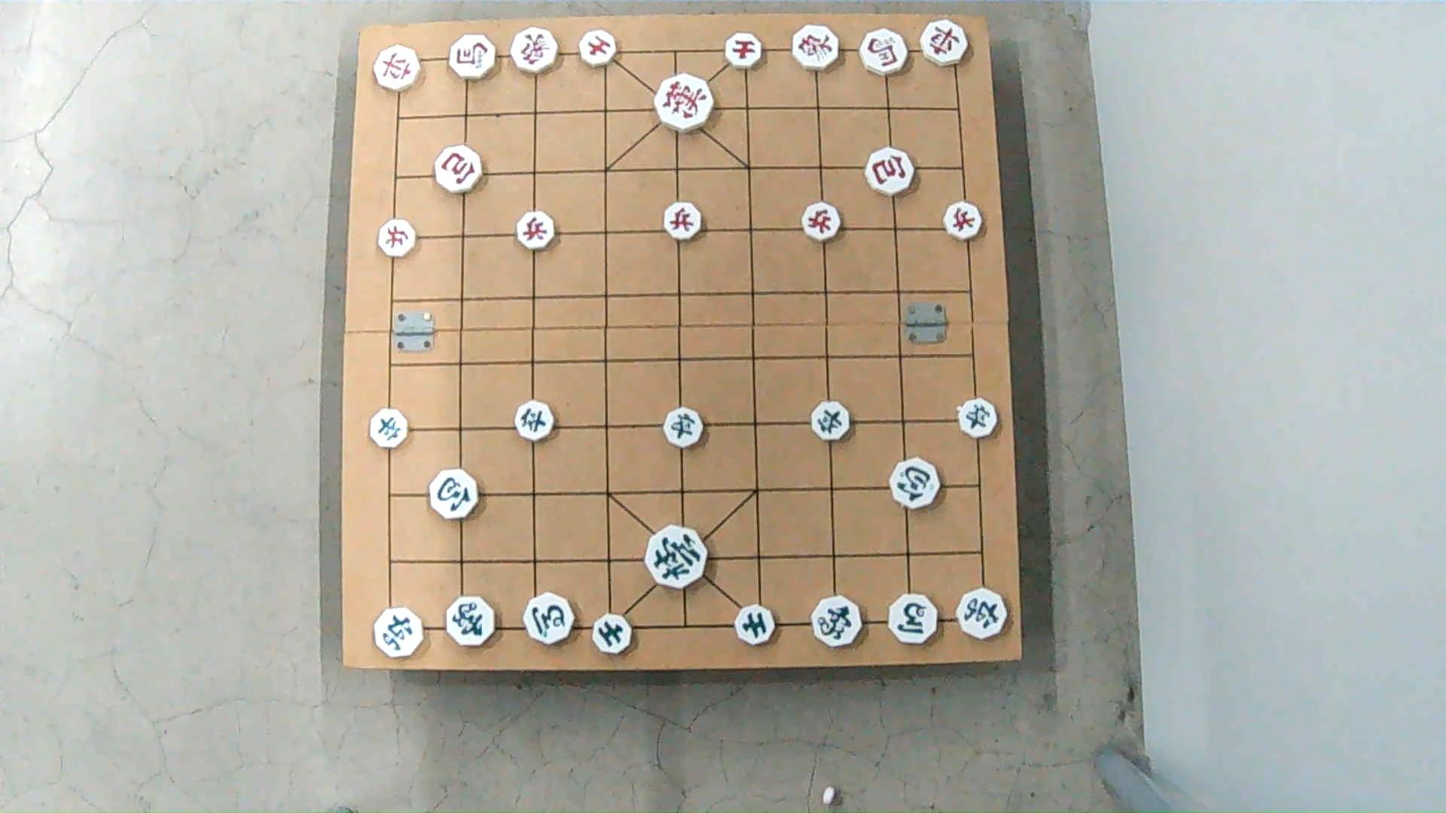cha_green: (956, 588, 1011, 641), (374, 611, 426, 659)
cha_red: (922, 23, 975, 65), (374, 47, 423, 89)
jol_green: (661, 406, 705, 449), (515, 403, 559, 440), (955, 400, 999, 437), (808, 403, 850, 440), (369, 409, 412, 444)
jol_red: (801, 202, 844, 241), (517, 215, 560, 249), (941, 204, 984, 238), (660, 206, 701, 241), (379, 221, 419, 256)
ma_green: (523, 593, 576, 643), (886, 598, 940, 645)
ma_red: (859, 32, 913, 74), (450, 36, 502, 79)
po_green: (427, 472, 480, 519), (888, 464, 941, 508)
po_red: (865, 151, 919, 195), (436, 150, 487, 192)
sa_green: (733, 603, 776, 642), (593, 616, 633, 654)
sa_red: (722, 35, 764, 68), (578, 32, 619, 65)
sang_green: (444, 599, 497, 647), (809, 598, 863, 643)
sang_red: (789, 26, 841, 71), (511, 30, 561, 72)
wang_green: (646, 533, 709, 589)
wang_red: (656, 78, 719, 129)
